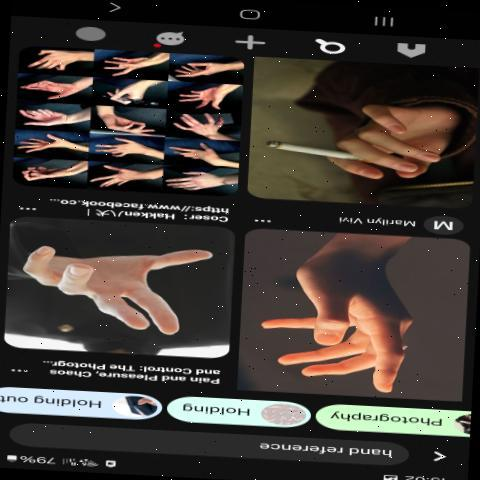Hands: (251, 239, 428, 404), (16, 224, 212, 356), (259, 79, 458, 195), (9, 101, 85, 131), (91, 106, 159, 138), (10, 131, 84, 160), (163, 57, 242, 83), (89, 162, 160, 190), (18, 73, 92, 98), (100, 48, 161, 77), (175, 109, 224, 144), (175, 82, 225, 114), (96, 79, 151, 108), (166, 169, 232, 193)
